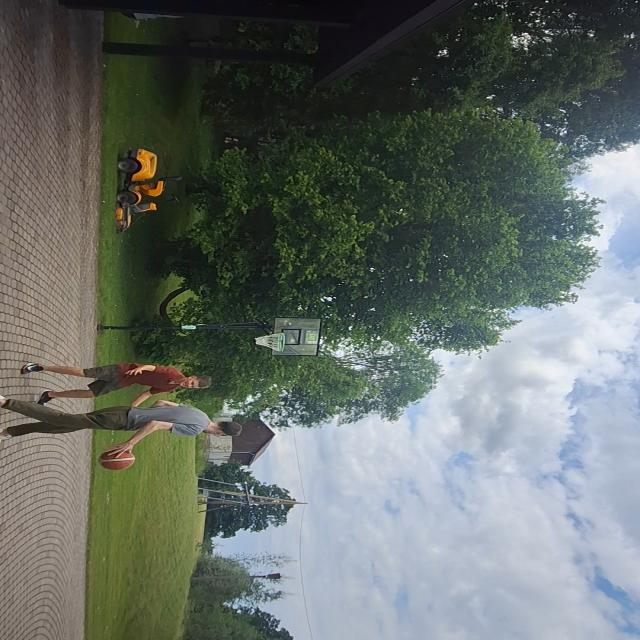ball: (101, 448, 136, 471)
hoop: (255, 330, 290, 357)
player: (0, 393, 244, 456), (21, 358, 214, 406)
